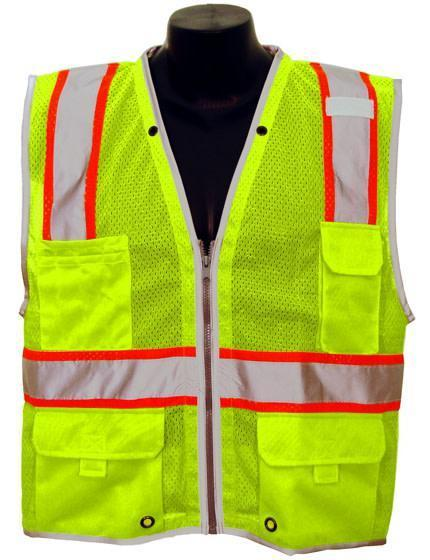vest: (20, 53, 414, 551)
